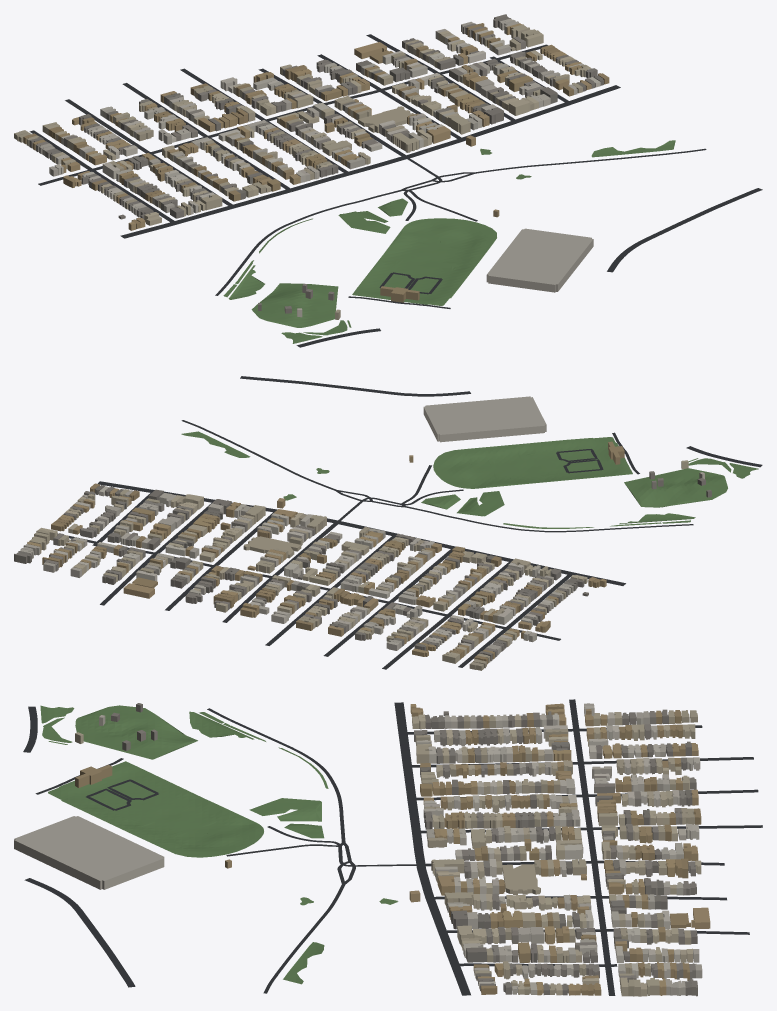
File: tile_6_13.glb
3 renders of one model, top to bottom at view 1: azimuth 30°, elevation 25°; view 2: azimuth 150°, elevation 25°; view 3: azimuth 270°, elevation 25°, orthographic. The views are drawn at different scales.
Visible parts, largest first — view 1: bld_6_13, grn_6_13, road_6_13; view 2: bld_6_13, grn_6_13, road_6_13; view 3: bld_6_13, grn_6_13, road_6_13.
Part boxes in pixels (<box>): bld_6_13: <box>14,14,609,319</box>; grn_6_13: <box>223,140,675,343</box>; road_6_13: <box>29,34,762,347</box>; bld_6_13: <box>14,396,711,670</box>; grn_6_13: <box>181,431,758,528</box>; road_6_13: <box>57,376,762,669</box>; bld_6_13: <box>14,703,710,996</box>; grn_6_13: <box>40,705,398,984</box>; road_6_13: <box>23,699,762,995</box>.
Size of the model in its own units: 842 by 28.71 by 893.
